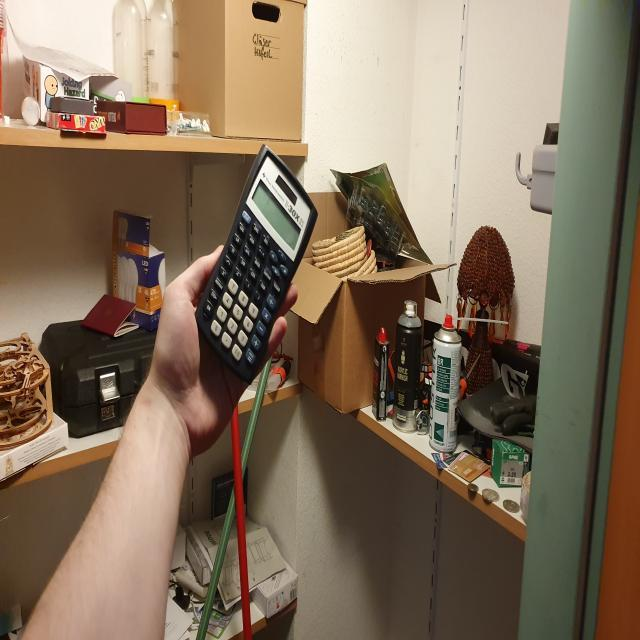Calculator: (194, 145, 317, 384)
